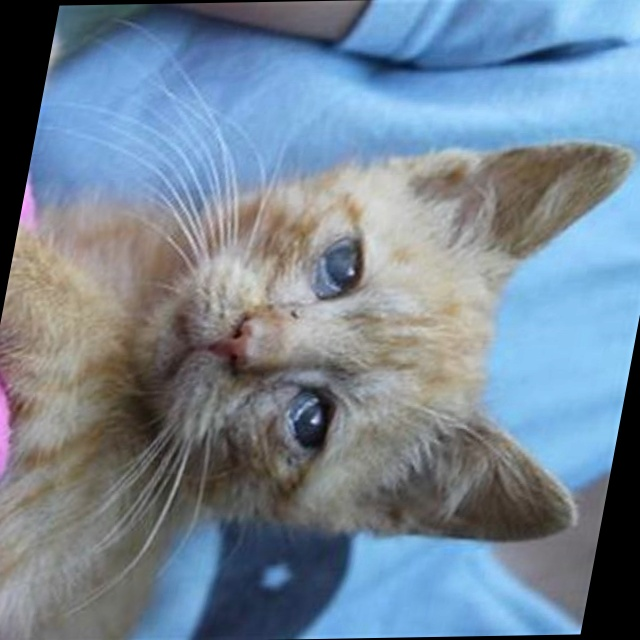eye_infection: (274, 387, 345, 469), (308, 230, 378, 299)
